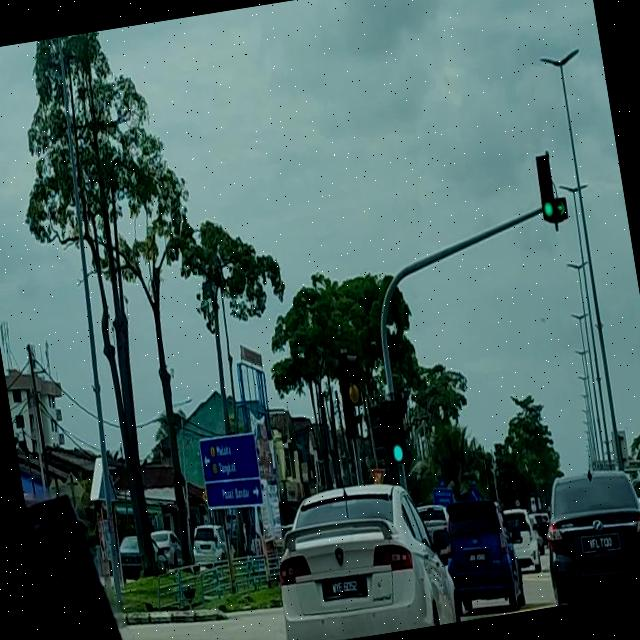green_light: (533, 153, 558, 222), (384, 401, 407, 464), (548, 153, 568, 220)
